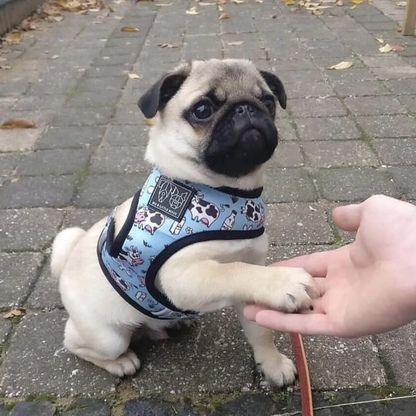Pug: (45, 54, 323, 396)
